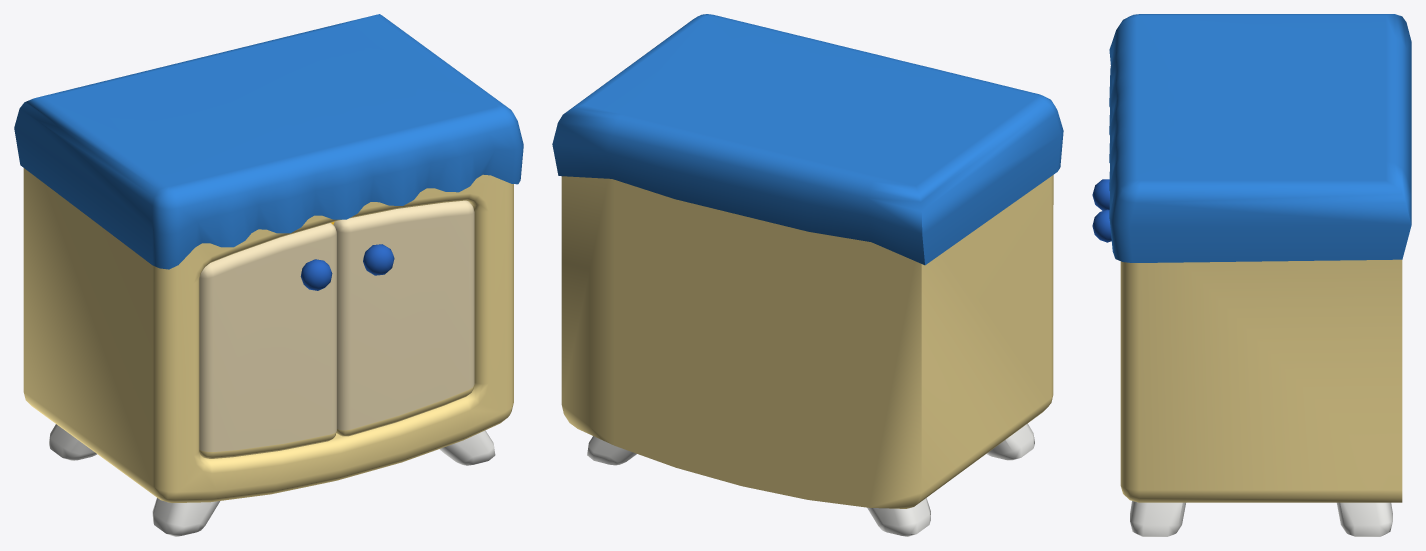
Rendered from armario_cozinha_base_2portas_campestre_azul_pacote.glb.
The picture shows the model from 3 angles, left to right: view 1: azimuth 30°, elevation 25°; view 2: azimuth 150°, elevation 25°; view 3: azimuth 270°, elevation 25°; orthographic projection. The views are drawn at different scales.
Visible parts, largest first — view 1: armario_cozinha_base_2portas_campestre_azul_pacote, porta_2, porta_1; view 2: armario_cozinha_base_2portas_campestre_azul_pacote; view 3: armario_cozinha_base_2portas_campestre_azul_pacote, porta_2, porta_1.
Boxes of the visible parts, bbox=[...] form: armario_cozinha_base_2portas_campestre_azul_pacote: bbox=[14, 14, 523, 536]; porta_2: bbox=[333, 200, 474, 436]; porta_1: bbox=[199, 223, 336, 458]; armario_cozinha_base_2portas_campestre_azul_pacote: bbox=[552, 14, 1063, 536]; armario_cozinha_base_2portas_campestre_azul_pacote: bbox=[1109, 14, 1411, 536]; porta_2: bbox=[1092, 209, 1111, 242]; porta_1: bbox=[1092, 179, 1109, 210].
Size of the model in its own units: 0.9248 by 0.8501 by 0.6793.
Materials: 1 (1 with a texture image).
